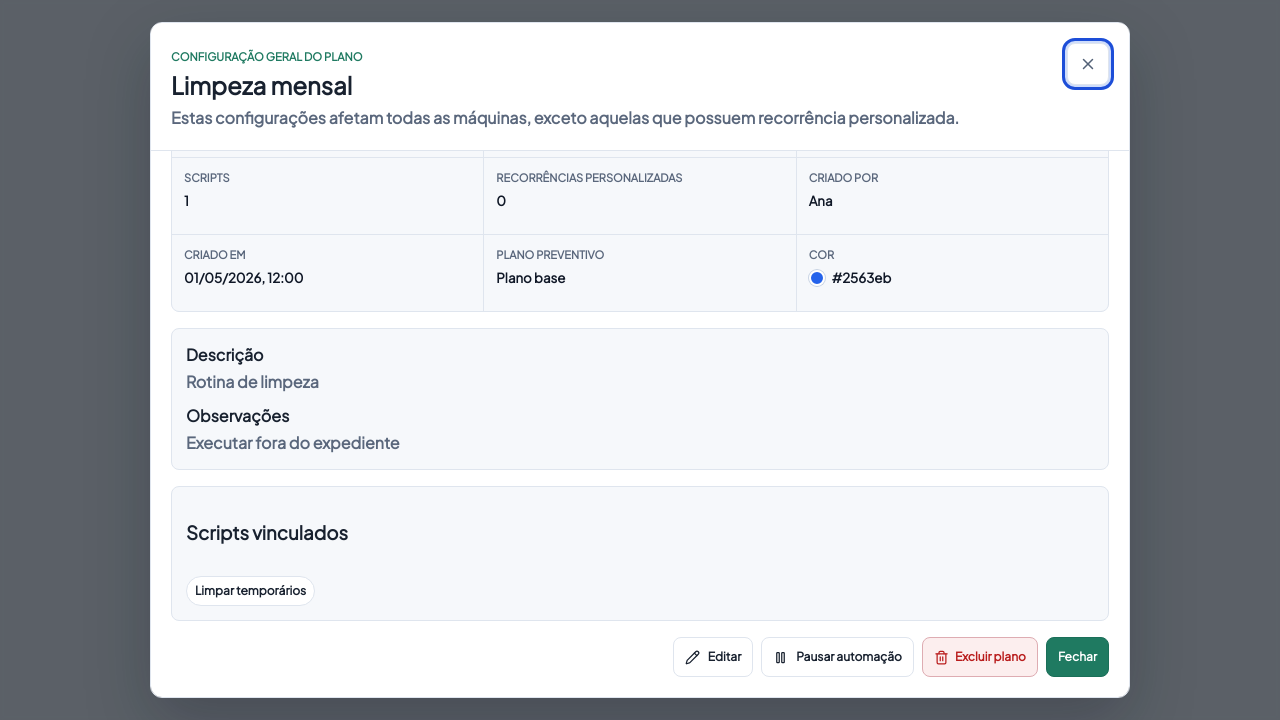
Test: AutomationPlanDetails - pausar, reativar e excluir › desabilita as confirmações enquanto salva
(page scrolled)
Click the button "Pausar automação" at (838, 657), box [761,637,914,677]
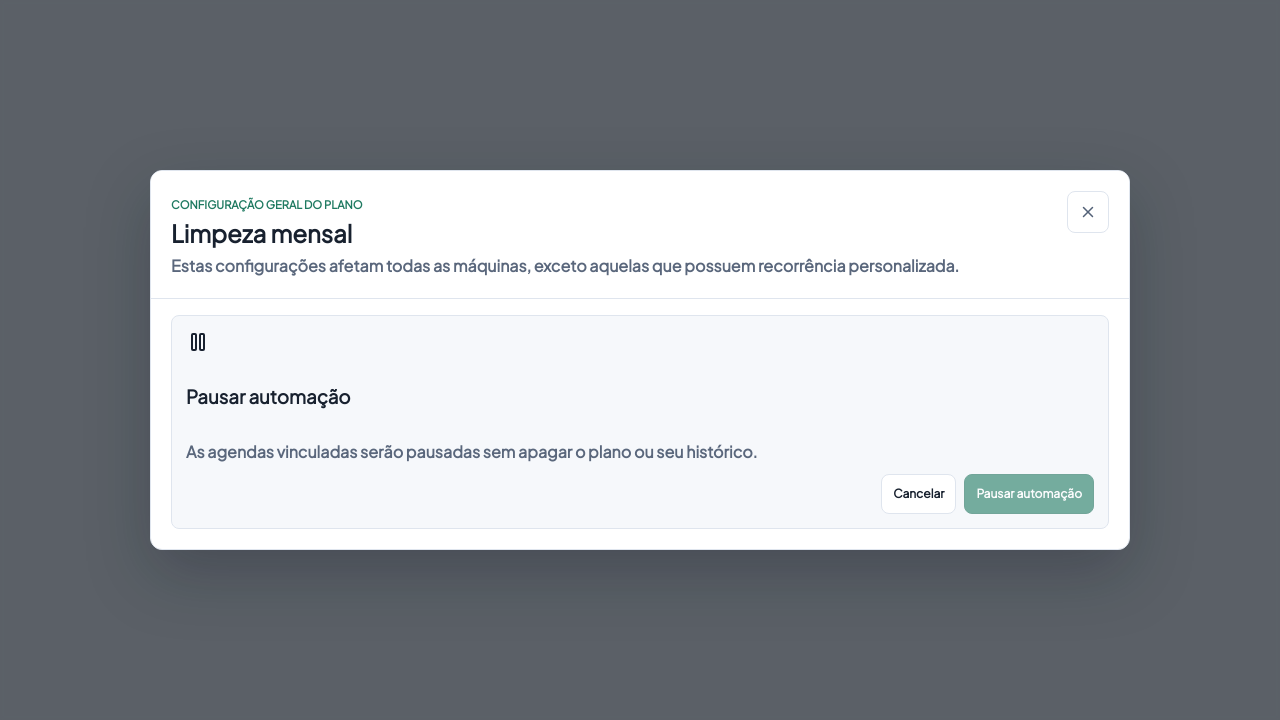
Check: the button "Pausar automação" is disabled, box [964,474,1094,514]
